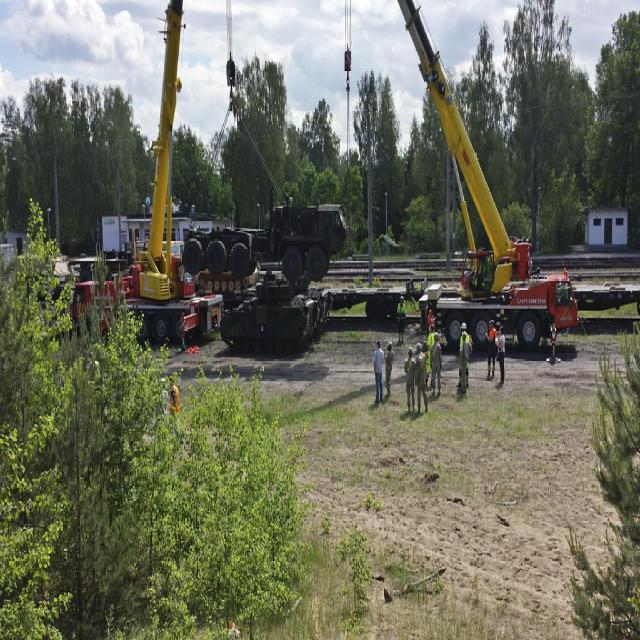tank: (215, 261, 334, 356)
